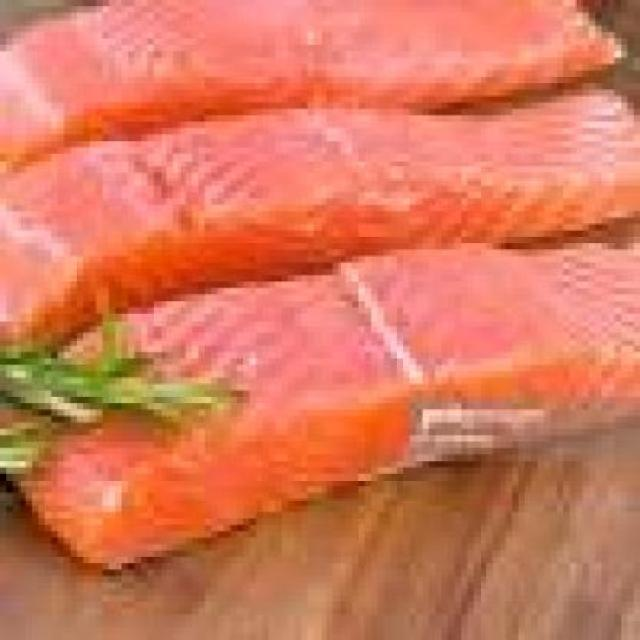salmon: (12, 243, 640, 582), (6, 122, 640, 333), (6, 6, 640, 122)
